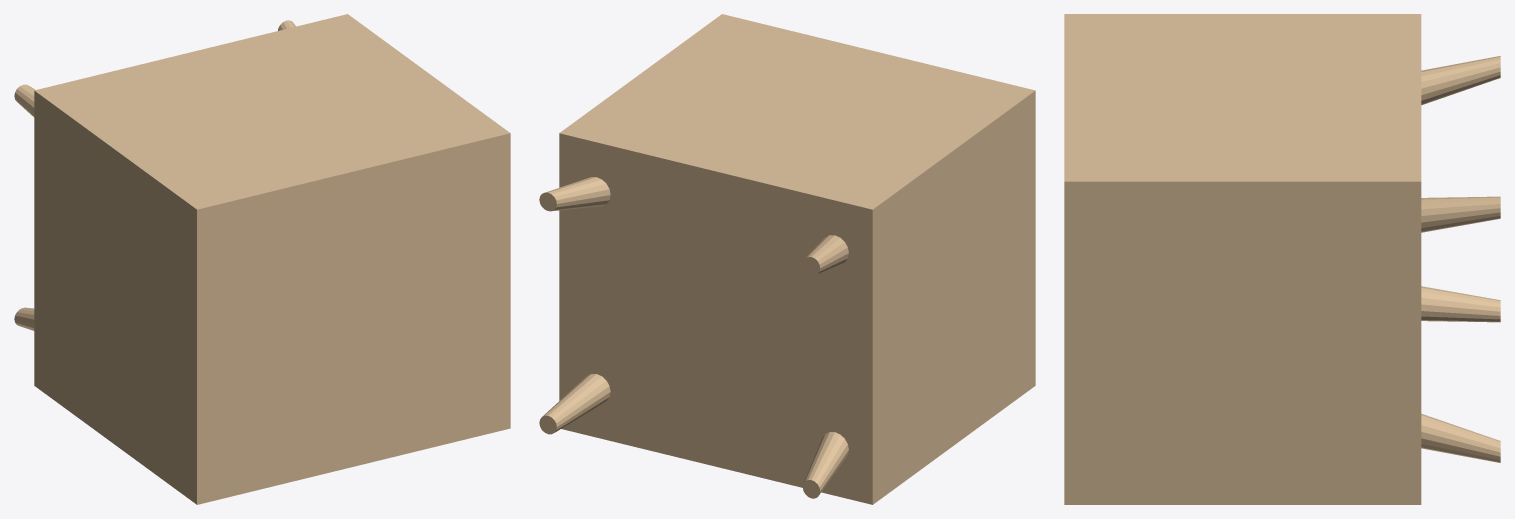
File: carcass.glb
3 views of the same model, side by side, from view 1: azimuth 30°, elevation 25°; view 2: azimuth 150°, elevation 25°; view 3: azimuth 270°, elevation 25° (orthographic). The views are drawn at different scales.
Parts seen in each view (by area): view 1: carcass.001; view 2: carcass.001; view 3: carcass.001.
Boxes of the visible parts, x1,y1,x2,y2 form: carcass.001: [14, 14, 510, 504]; carcass.001: [539, 14, 1035, 504]; carcass.001: [1064, 14, 1500, 504].
Size of the model in its own units: 0.5 by 0.45 by 0.55.
